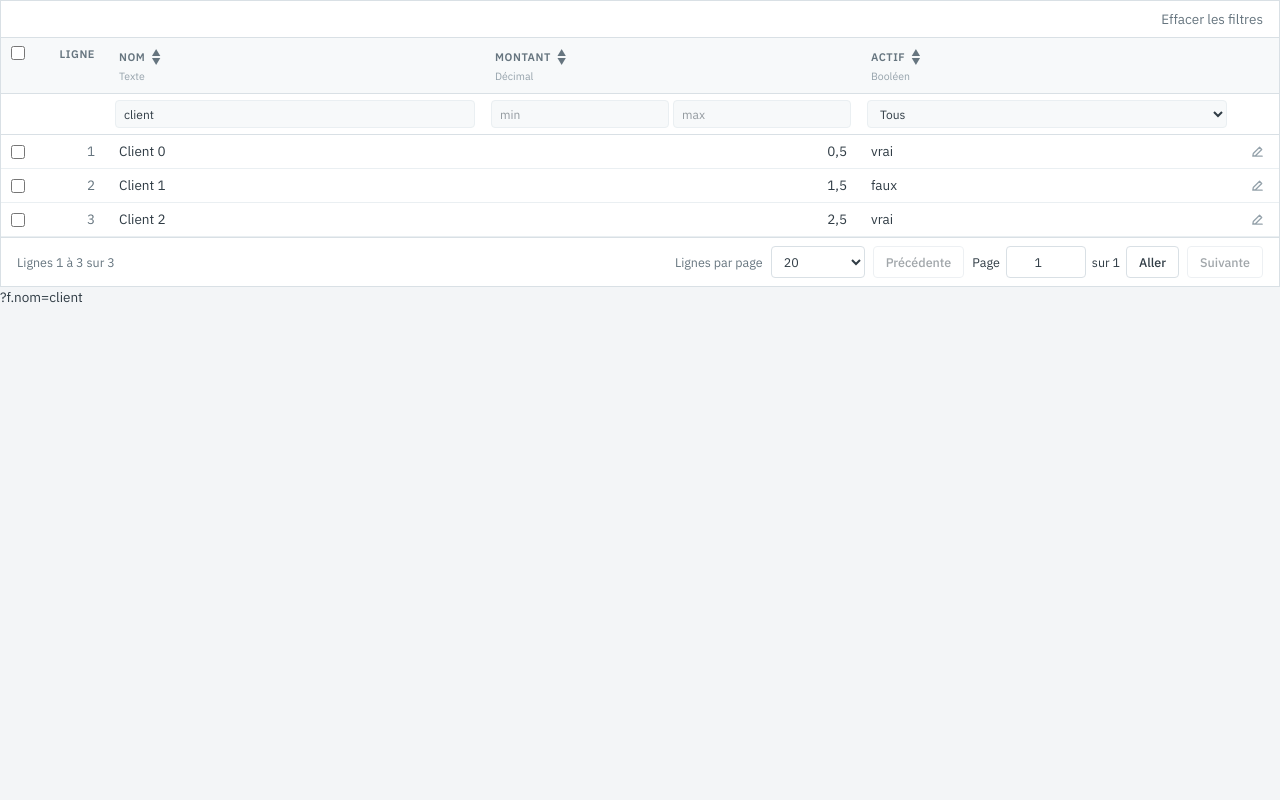
supprime toutes les lignes filtrées sans envoyer leurs numéros
Expected: the text "Lignes 1 à 3 sur 3" is shown, x1=17 y1=253 x2=115 y2=271
Step 1. Click the checkbox named "Sélectionner toutes les lignes filtrées" → (18, 53), box x1=11 y1=46 x2=25 y2=60
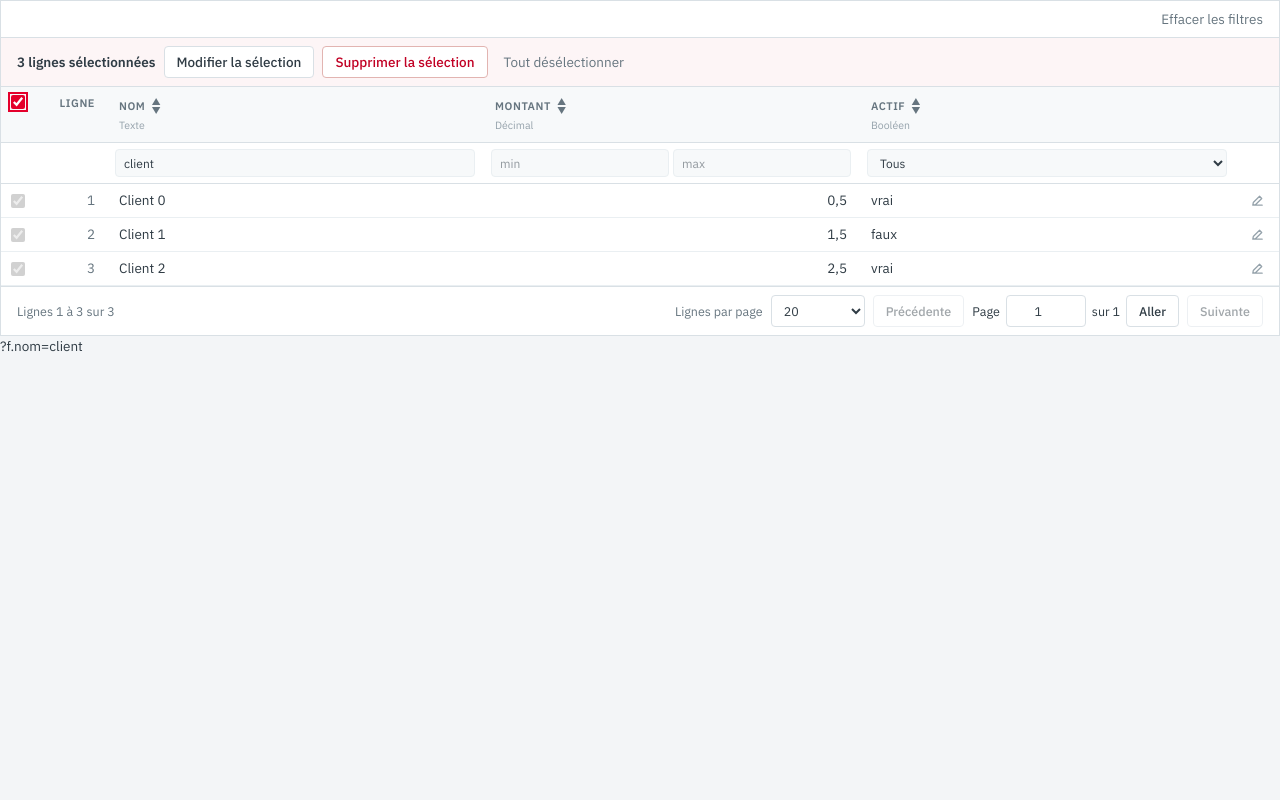
Result: the text "3 lignes sélectionnées" is shown at x1=17 y1=52 x2=156 y2=72
Step 2. Click the button "Supprimer la sélection" → (405, 62), box x1=322 y1=46 x2=488 y2=78
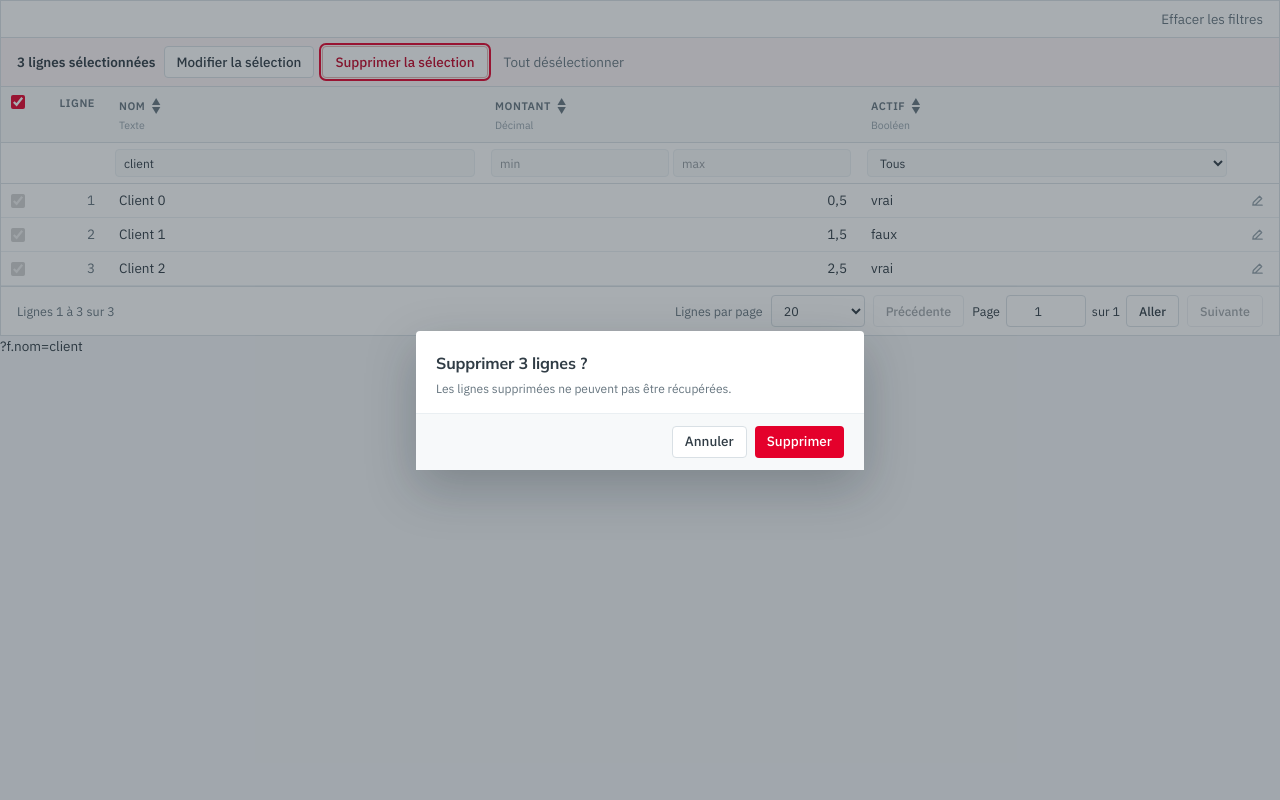
Step 3. Click the button "Supprimer" → (799, 442), box x1=755 y1=426 x2=844 y2=458
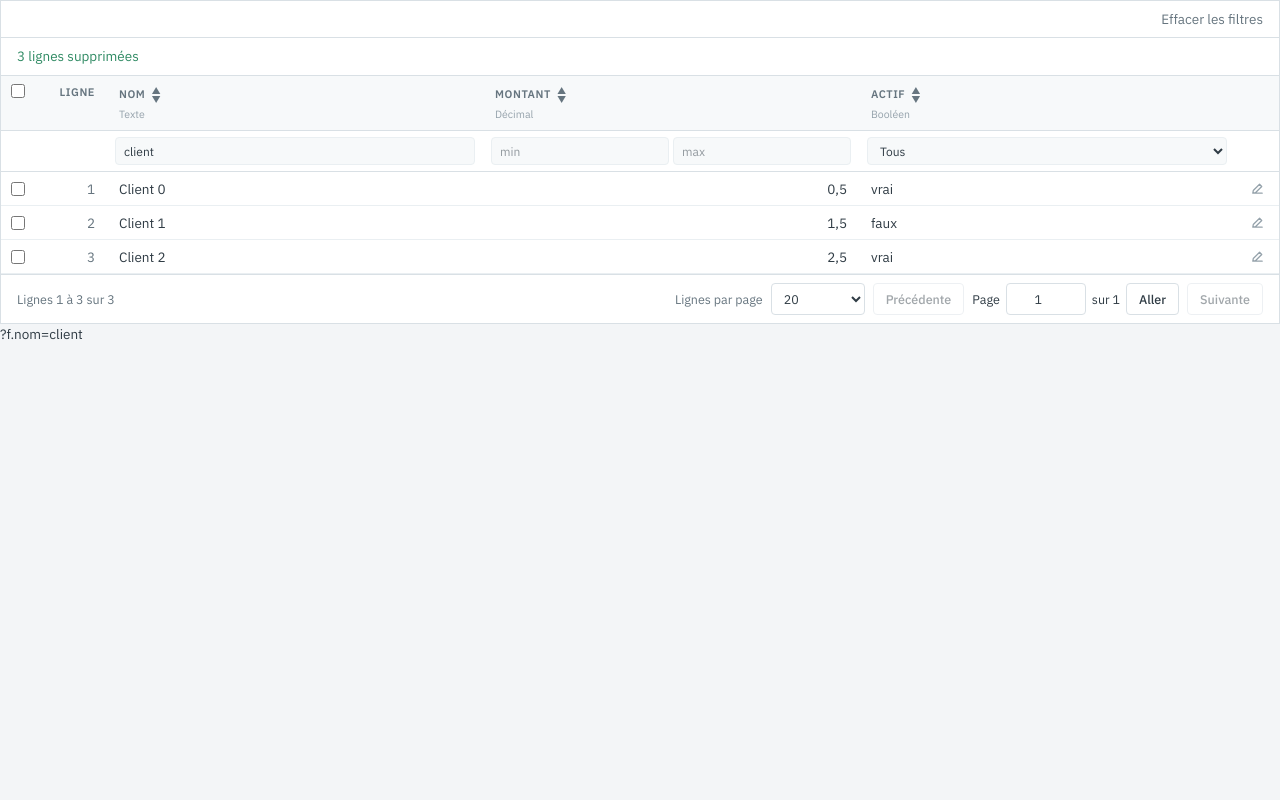
Result: the text "3 lignes supprimées" is shown at x1=1 y1=38 x2=1279 y2=76
